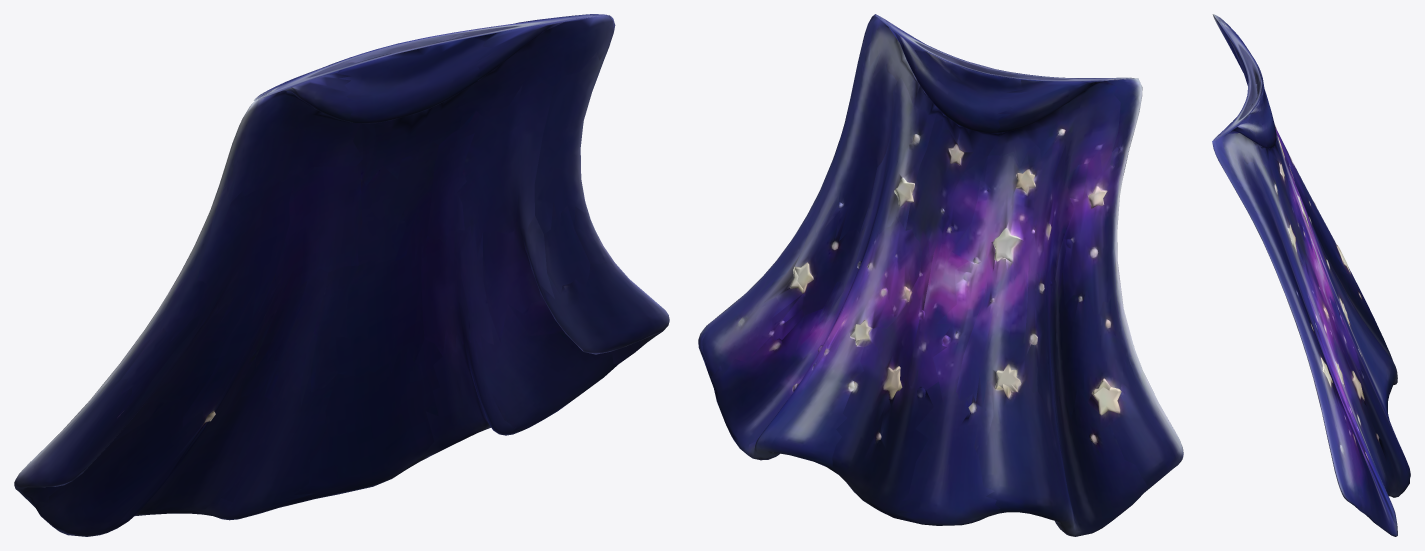
The model's file is cs-my-galaxy-cape.glb.
3 views of the same model, side by side, from view 1: azimuth 30°, elevation 25°; view 2: azimuth 150°, elevation 25°; view 3: azimuth 270°, elevation 25° (orthographic). The views are drawn at different scales.
Visible parts, largest first — view 1: tripo_node_c149c4d8-904d-4cee-9005-e08f2042a002; view 2: tripo_node_c149c4d8-904d-4cee-9005-e08f2042a002; view 3: tripo_node_c149c4d8-904d-4cee-9005-e08f2042a002.
Boxes of the visible parts, left/top/right/bottom form: tripo_node_c149c4d8-904d-4cee-9005-e08f2042a002: left=14, top=14, right=669, bottom=536; tripo_node_c149c4d8-904d-4cee-9005-e08f2042a002: left=698, top=14, right=1183, bottom=536; tripo_node_c149c4d8-904d-4cee-9005-e08f2042a002: left=1212, top=14, right=1410, bottom=536.
Size of the model in its own units: 1 by 0.7931 by 0.3582.
1 material, 1 textured.
